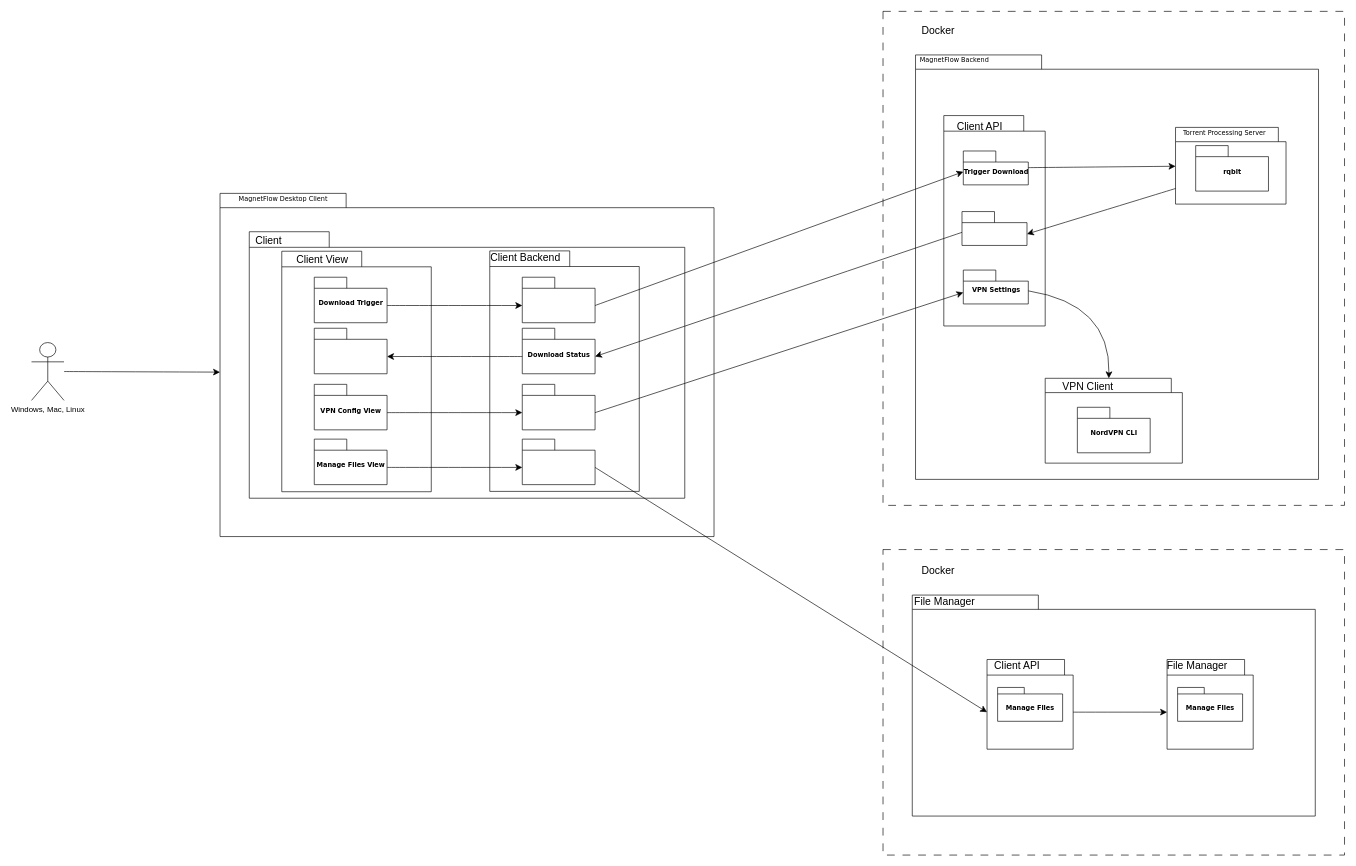
Image size: 1356x866. Some labels were removed from this diagram. The shapes that lost their labels are listed below. From the top down, each one's box as (x1, y1, x2, y2) in pixels, then its label:
(961, 211, 1027, 245): Status
(522, 277, 595, 323): Server Download Trigger
(314, 328, 387, 374): Download View
(522, 384, 595, 430): VPN Config
(522, 438, 595, 485): File Manager View
